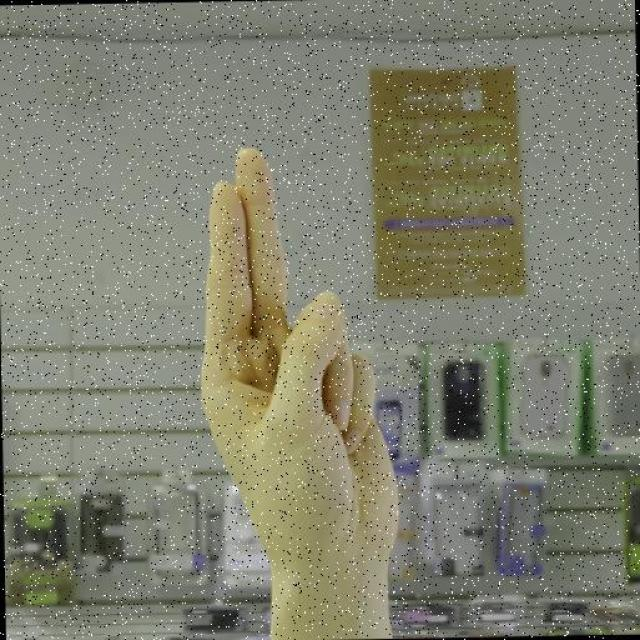U: (191, 144, 409, 577)
